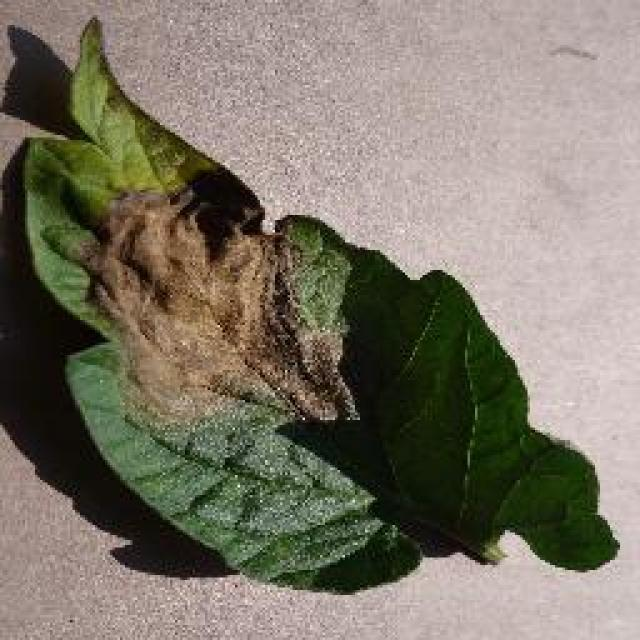Tomato late blight leaf: (23, 14, 622, 598)
